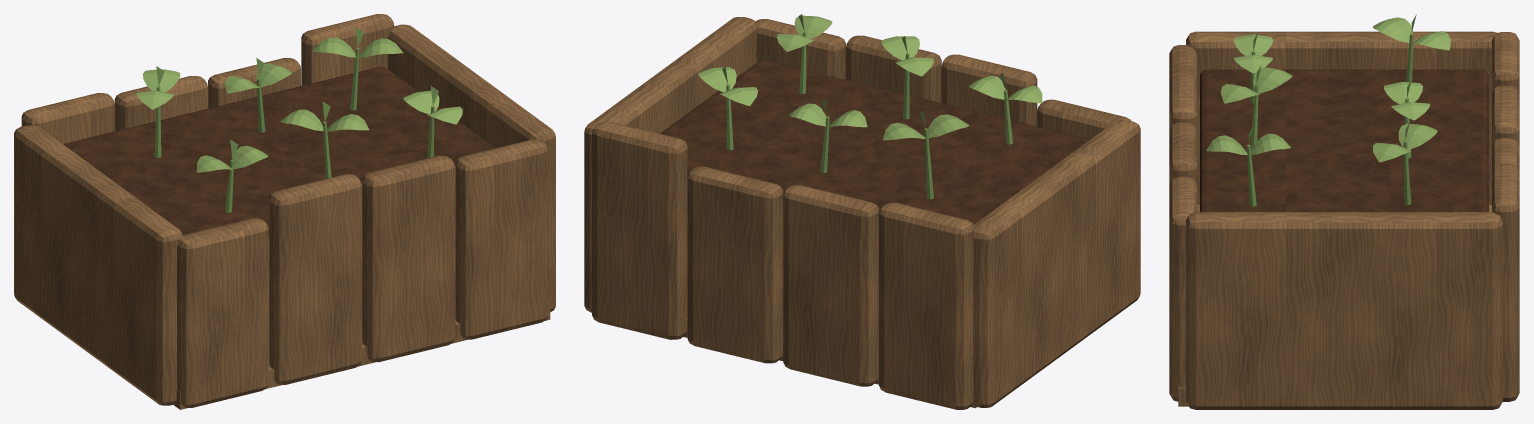
The model's file is planter-seedling-before.glb.
The picture shows the model from 3 angles, left to right: view 1: azimuth 30°, elevation 25°; view 2: azimuth 150°, elevation 25°; view 3: azimuth 270°, elevation 25°; orthographic projection. The views are drawn at different scales.
Parts seen in each view (by area): view 1: GEO-PlanterV2-Wood.001, GEO-PlanterV2-Soil.001, GEO-Seedling-PlantGreenLight, GEO-Seedling-PlantGreen; view 2: GEO-PlanterV2-Wood.001, GEO-PlanterV2-Soil.001, GEO-Seedling-PlantGreenLight, GEO-Seedling-PlantGreen; view 3: GEO-PlanterV2-Wood.001, GEO-PlanterV2-Soil.001, GEO-Seedling-PlantGreenLight, GEO-Seedling-PlantGreen.
Boxes of the visible parts, box(x1,y1,x2,y2) form: GEO-PlanterV2-Wood.001: box(14, 14, 555, 409); GEO-PlanterV2-Soil.001: box(63, 67, 495, 236); GEO-Seedling-PlantGreenLight: box(137, 37, 462, 172); GEO-Seedling-PlantGreen: box(154, 27, 438, 212); GEO-PlanterV2-Wood.001: box(584, 17, 1140, 409); GEO-PlanterV2-Soil.001: box(660, 60, 1090, 224); GEO-Seedling-PlantGreenLight: box(698, 15, 1042, 140); GEO-Seedling-PlantGreen: box(722, 14, 1012, 199); GEO-PlanterV2-Wood.001: box(1169, 31, 1519, 409); GEO-PlanterV2-Soil.001: box(1200, 69, 1488, 211); GEO-Seedling-PlantGreenLight: box(1206, 17, 1450, 162); GEO-Seedling-PlantGreen: box(1247, 14, 1416, 206).
Size of the model in its own units: 1.18 by 0.678 by 0.862.
Materials: 4 (2 with a texture image).
